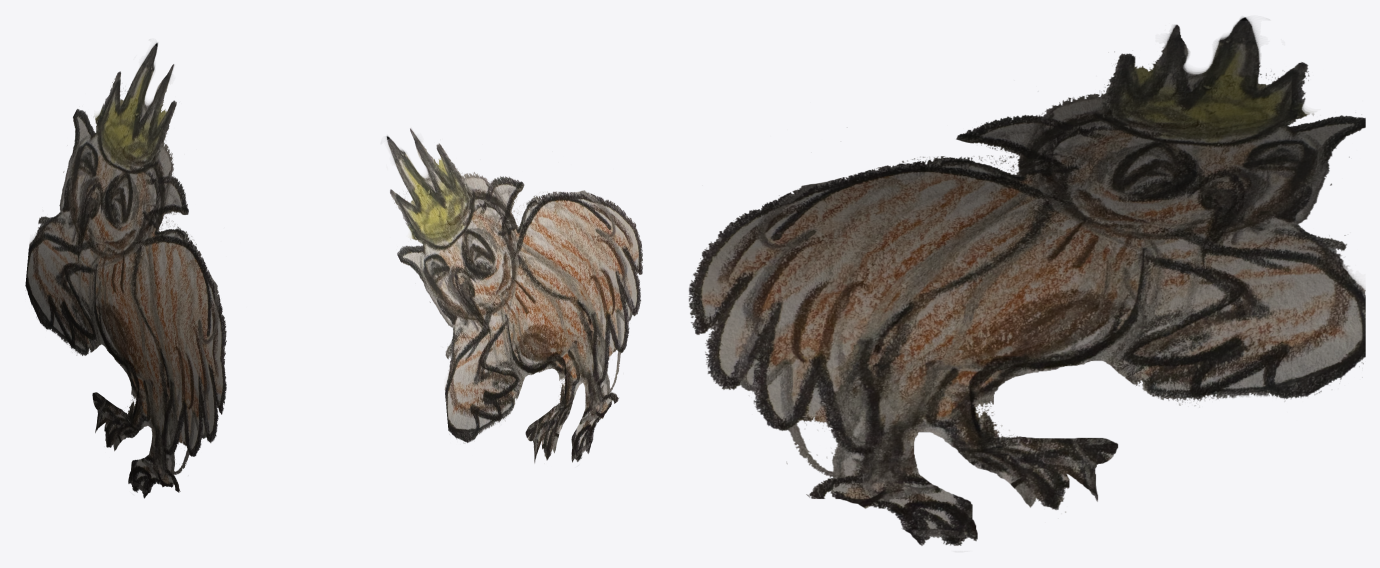
File: owl.glb
3 renders of one model, left to right at view 1: azimuth 30°, elevation 25°; view 2: azimuth 150°, elevation 25°; view 3: azimuth 270°, elevation 25°, orthographic. The views are drawn at different scales.
Parts seen in each view (by area): view 1: owl; view 2: owl; view 3: owl.
Part boxes in pixels (x1=…): owl: x1=25, y1=42, x2=226, y2=498; owl: x1=386, y1=128, x2=642, y2=463; owl: x1=689, y1=17, x2=1365, y2=545.
Bounding box in the file's own units: 0.3678 × 1.18 × 1.15.
Materials: 1 (1 with a texture image).
